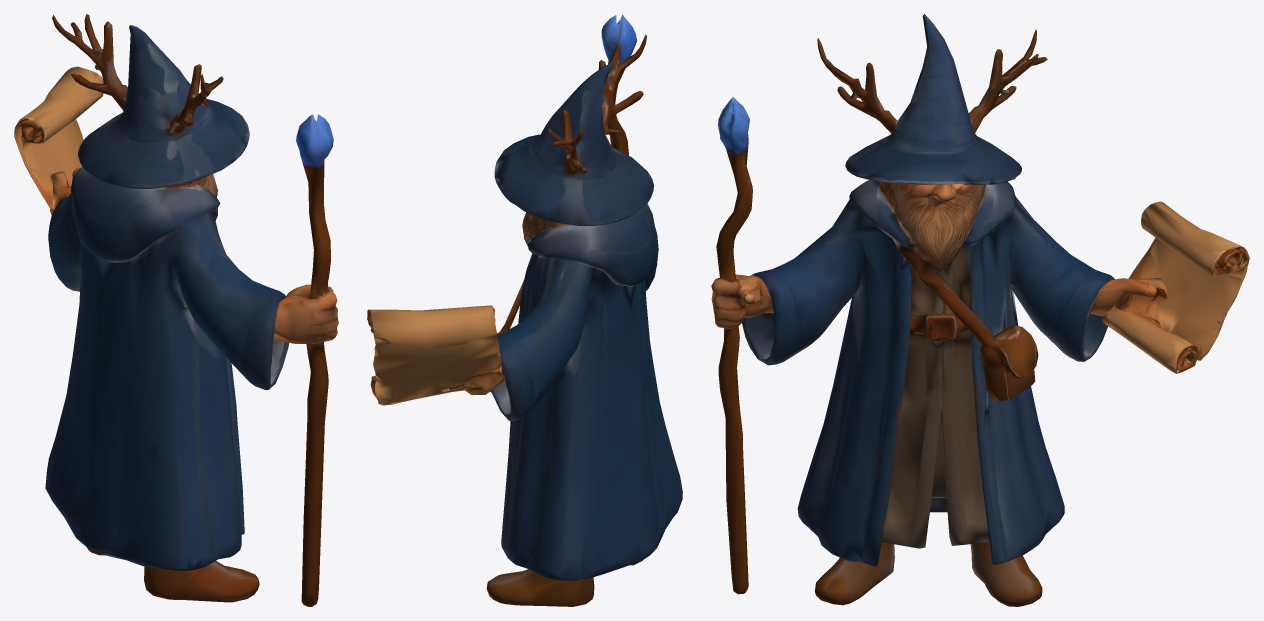
3 renders of one model, left to right at view 1: azimuth 30°, elevation 25°; view 2: azimuth 150°, elevation 25°; view 3: azimuth 270°, elevation 25°, orthographic. The views are drawn at different scales.
Parts seen in each view (by area): view 1: tripo_node_b7e4d8dd-49a2-40c6-bb14-31aa6adef8b5; view 2: tripo_node_b7e4d8dd-49a2-40c6-bb14-31aa6adef8b5; view 3: tripo_node_b7e4d8dd-49a2-40c6-bb14-31aa6adef8b5.
Part boxes in pixels (box(x1,y1,x2,y2)): tripo_node_b7e4d8dd-49a2-40c6-bb14-31aa6adef8b5: box(14, 14, 338, 606); tripo_node_b7e4d8dd-49a2-40c6-bb14-31aa6adef8b5: box(367, 14, 682, 606); tripo_node_b7e4d8dd-49a2-40c6-bb14-31aa6adef8b5: box(711, 14, 1249, 606).
Size of the model in its own units: 0.3339 by 0.9995 by 0.8808.
Materials: 1 (1 with a texture image).
